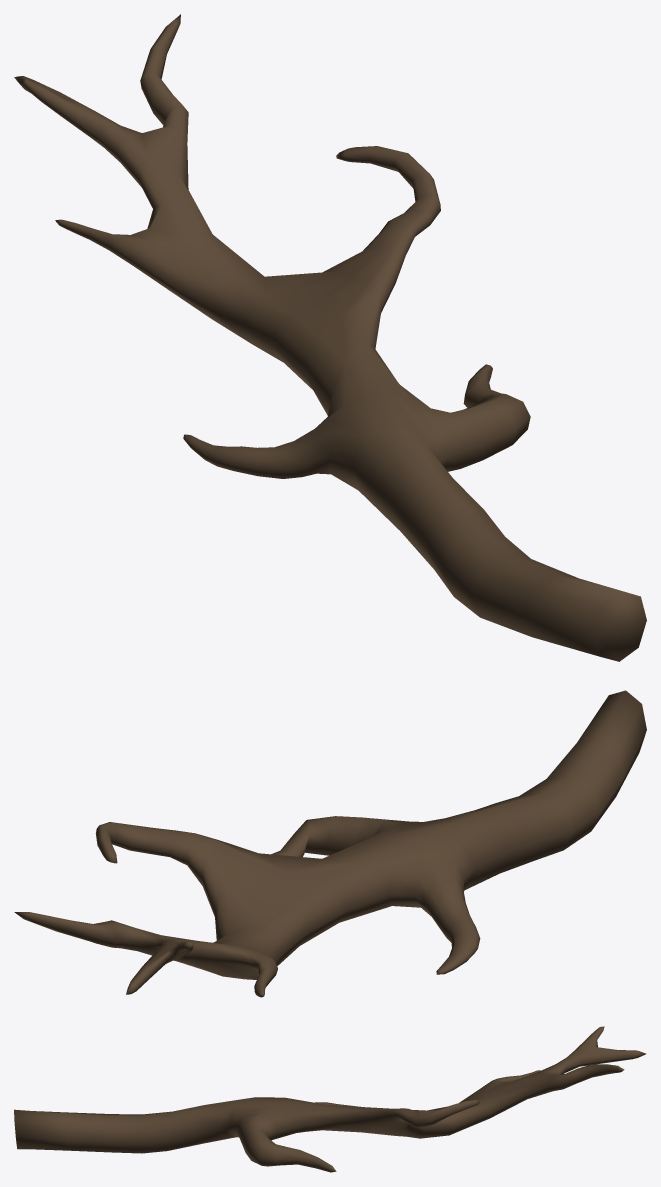
The model's file is Tree_Branches_2.fbx.
3 renders of one model, top to bottom at view 1: azimuth 30°, elevation 25°; view 2: azimuth 150°, elevation 25°; view 3: azimuth 270°, elevation 25°, orthographic. The views are drawn at different scales.
Visible parts, largest first — view 1: Tree_Branch_2; view 2: Tree_Branch_2; view 3: Tree_Branch_2.
Boxes of the visible parts, x1,y1,x2,y2 form: Tree_Branch_2: (14,14,646,661); Tree_Branch_2: (14,690,646,997); Tree_Branch_2: (14,1026,646,1172).
Bounding box in the file's own units: 27.03 × 18 × 85.43.
